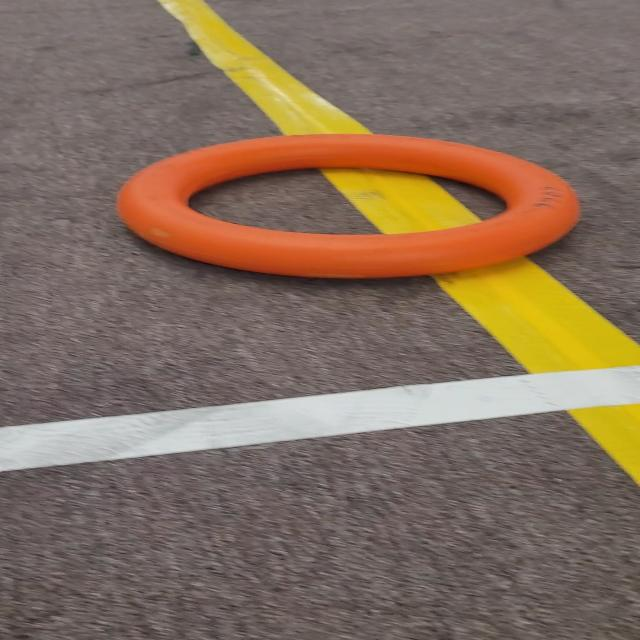note: (93, 126, 604, 290)
